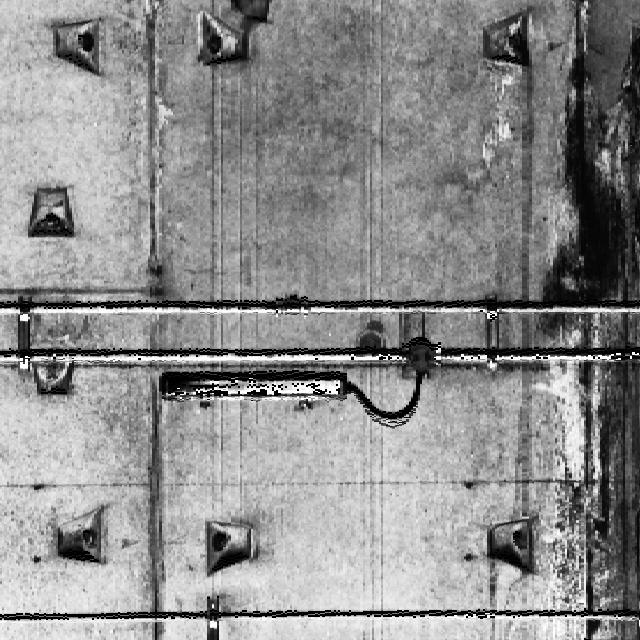leakage: (543, 33, 639, 639)
